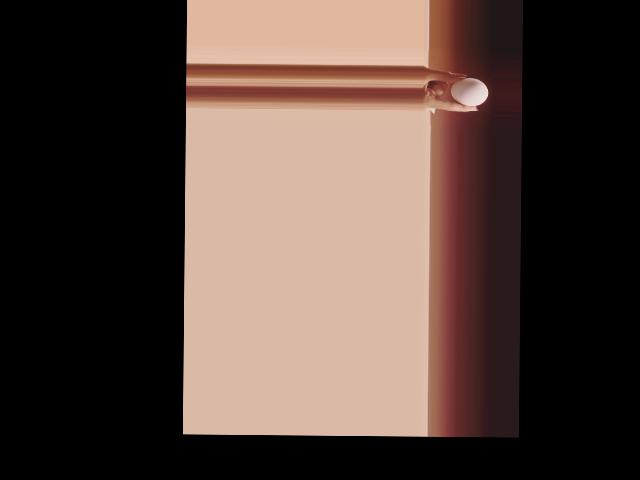egg: (449, 77, 487, 105)
